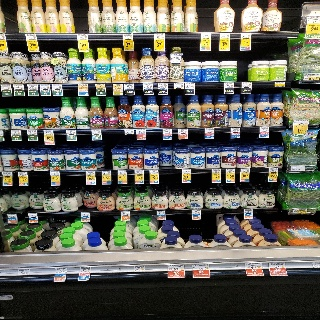All PRICE TAGS: (303, 73, 320, 80), (294, 119, 309, 126), (192, 264, 209, 270), (269, 262, 285, 268), (245, 263, 262, 268), (55, 267, 67, 274), (18, 268, 30, 275), (168, 265, 184, 270), (293, 208, 306, 214), (307, 17, 320, 23), (290, 166, 305, 171), (133, 265, 145, 271), (80, 267, 91, 273), (0, 84, 11, 90), (77, 33, 88, 39), (219, 32, 230, 38), (274, 82, 286, 87), (25, 33, 37, 38), (123, 33, 133, 39), (154, 33, 165, 38), (201, 33, 212, 38), (240, 33, 251, 38), (13, 84, 24, 89), (157, 83, 168, 88), (67, 129, 77, 134), (224, 82, 234, 87), (174, 83, 184, 88), (28, 84, 38, 89), (40, 84, 50, 89), (52, 84, 62, 89), (81, 212, 90, 217), (226, 168, 235, 173), (102, 170, 111, 175), (86, 170, 95, 175), (231, 127, 240, 132), (205, 128, 214, 133), (179, 128, 188, 133), (242, 82, 251, 87), (185, 83, 194, 88), (43, 130, 54, 134), (143, 84, 154, 88), (134, 170, 144, 174), (50, 171, 60, 175), (18, 172, 28, 176), (27, 130, 37, 134), (11, 130, 21, 134), (78, 84, 88, 88), (95, 84, 105, 88), (113, 84, 123, 88), (124, 84, 134, 88), (244, 209, 253, 213), (192, 210, 201, 214), (121, 211, 130, 215), (8, 214, 17, 218), (269, 168, 278, 172), (241, 168, 250, 172), (212, 169, 221, 173), (182, 169, 191, 173), (150, 170, 159, 174), (118, 170, 127, 174), (3, 172, 12, 176), (260, 127, 269, 131), (163, 129, 172, 133), (125, 129, 134, 133), (92, 129, 101, 133), (29, 213, 37, 217), (137, 129, 145, 133), (157, 211, 166, 214)
